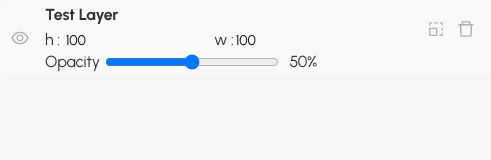
Test: LayerImage Component › should handle opacity change correctly
Set the slider to "0.8" at (240, 62), box top-left (105, 54), bottom-right (279, 70)
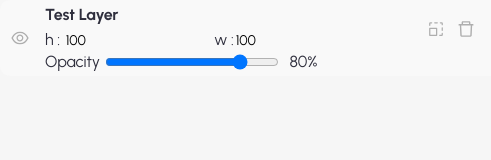
Check: the text "80%" is shown, box top-left (289, 52), bottom-right (317, 71)
